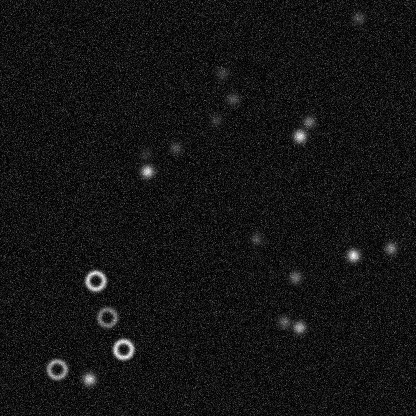Ring: (83, 268, 107, 292), (44, 357, 68, 381), (111, 337, 135, 361), (95, 305, 119, 329)
Spot: (248, 230, 264, 246), (214, 65, 230, 81), (80, 370, 96, 386), (287, 269, 303, 285), (139, 163, 155, 179), (207, 112, 223, 128), (167, 139, 183, 155), (345, 247, 361, 263), (137, 146, 153, 162), (291, 319, 307, 335), (291, 128, 307, 144), (382, 240, 398, 256), (276, 313, 292, 329), (300, 113, 316, 129), (224, 91, 240, 107), (350, 10, 366, 26)
